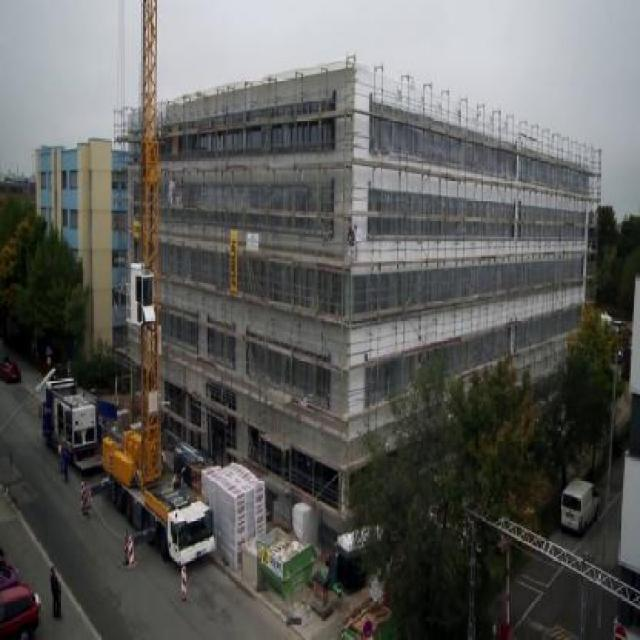Mobile Crane: (97, 0, 218, 571)
